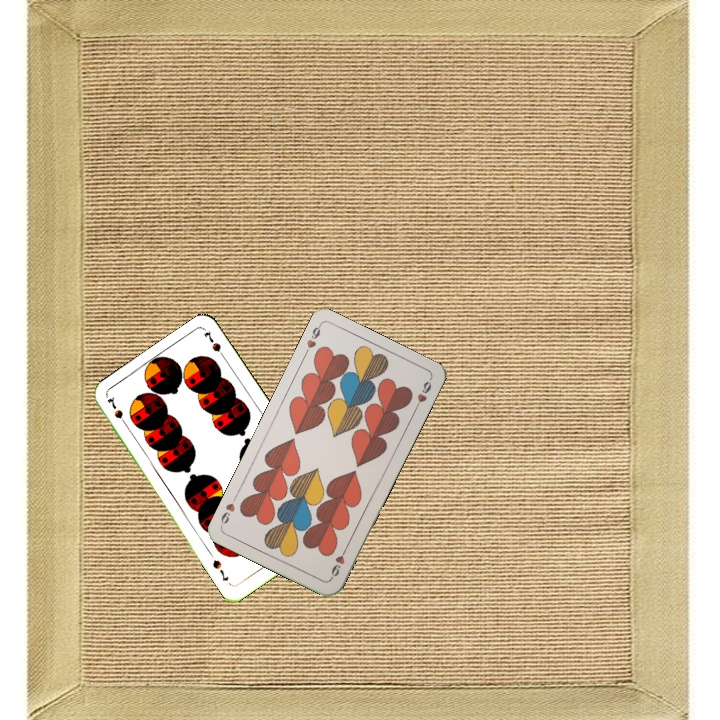H9: (326, 544, 349, 582), (300, 321, 323, 359)
S7: (103, 393, 130, 430)
